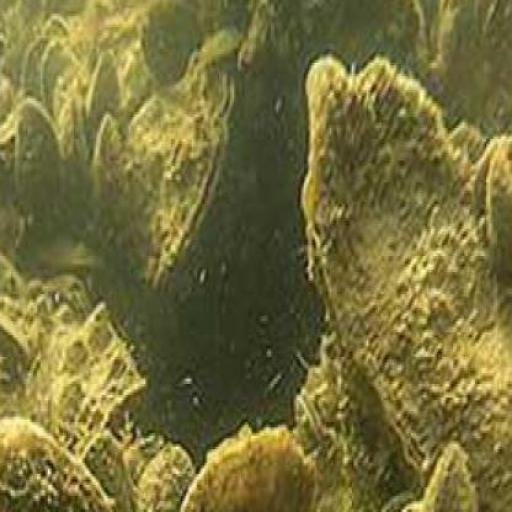Oyster-Closed: (307, 67, 512, 512), (181, 435, 327, 512), (1, 420, 106, 512)
Oyster-Open: (120, 60, 250, 301), (473, 133, 512, 279)
